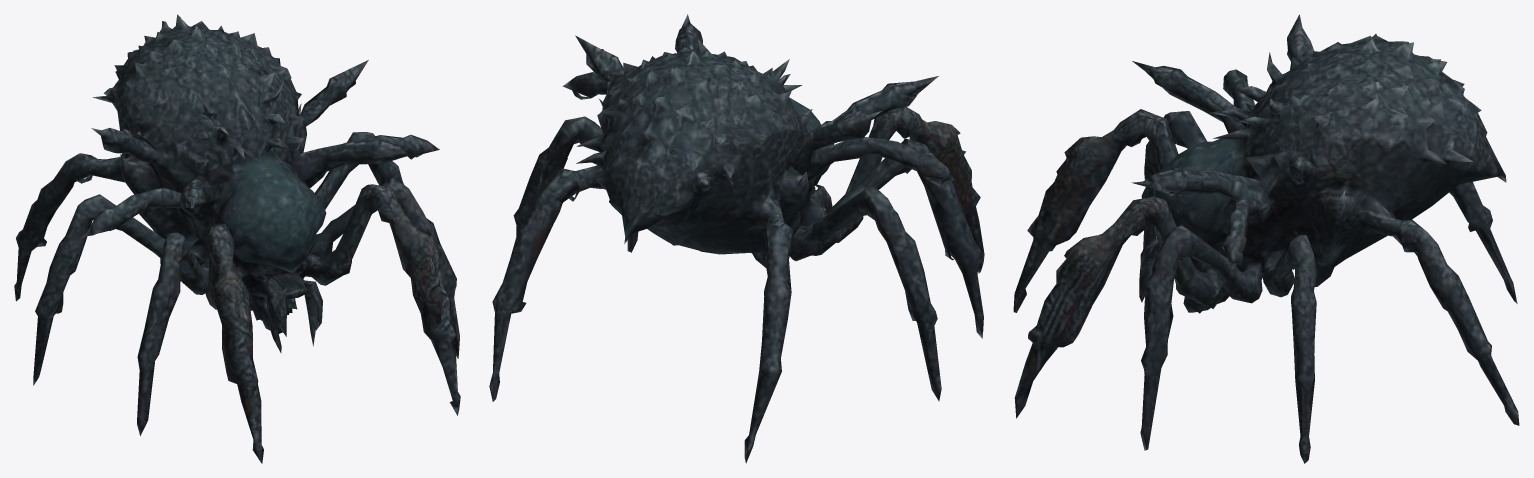
File: alien-madre.glb
3 renders of one model, left to right at view 1: azimuth 30°, elevation 25°; view 2: azimuth 150°, elevation 25°; view 3: azimuth 270°, elevation 25°, orthographic. The views are drawn at different scales.
Bounding box in the file's own units: 1.84 × 1.35 × 1.89.
1 material, 1 textured.
